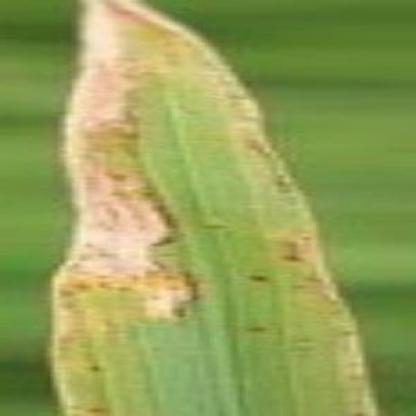Blight: (45, 1, 384, 416)
